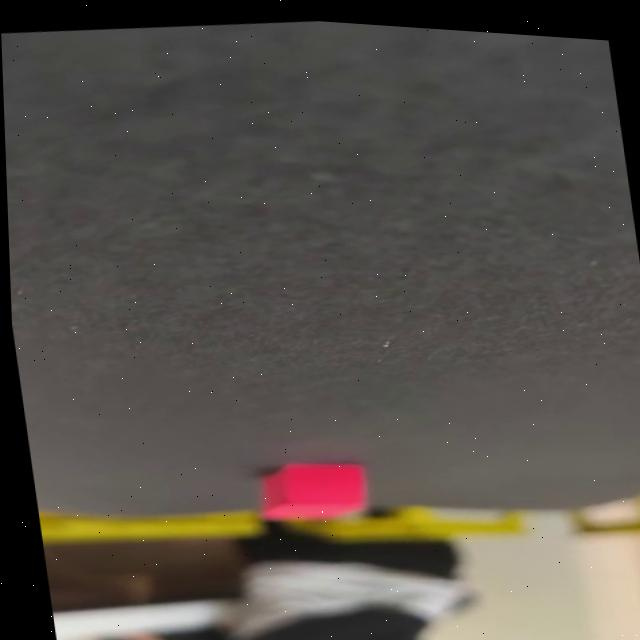red block: (250, 453, 371, 529)
